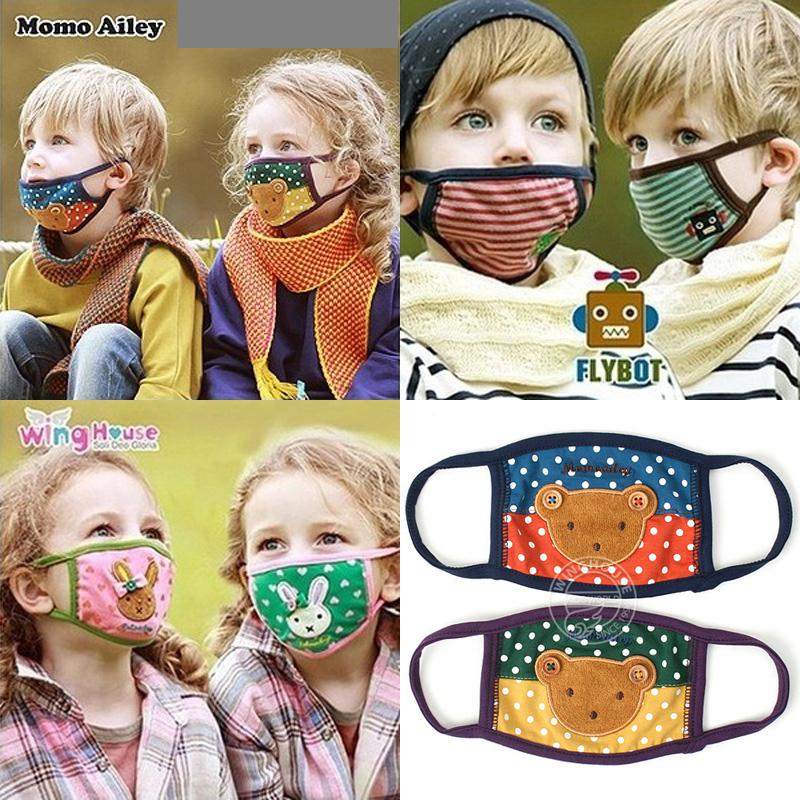OK: (621, 103, 774, 256), (236, 512, 380, 656), (38, 498, 178, 638), (235, 126, 336, 227)
WRONG: (427, 82, 598, 253), (14, 119, 125, 230)
